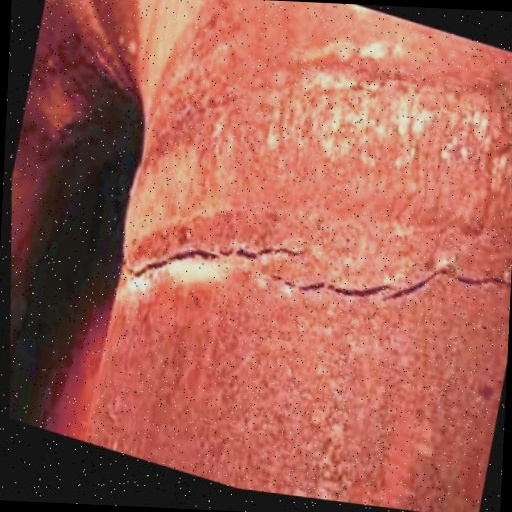crack: (116, 151, 512, 400)
